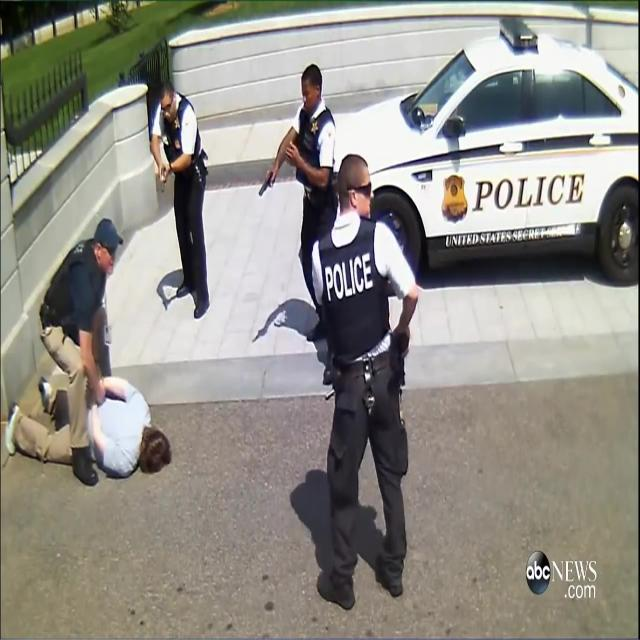Weapon: (389, 308, 433, 396), (143, 150, 188, 208), (253, 149, 282, 225)
